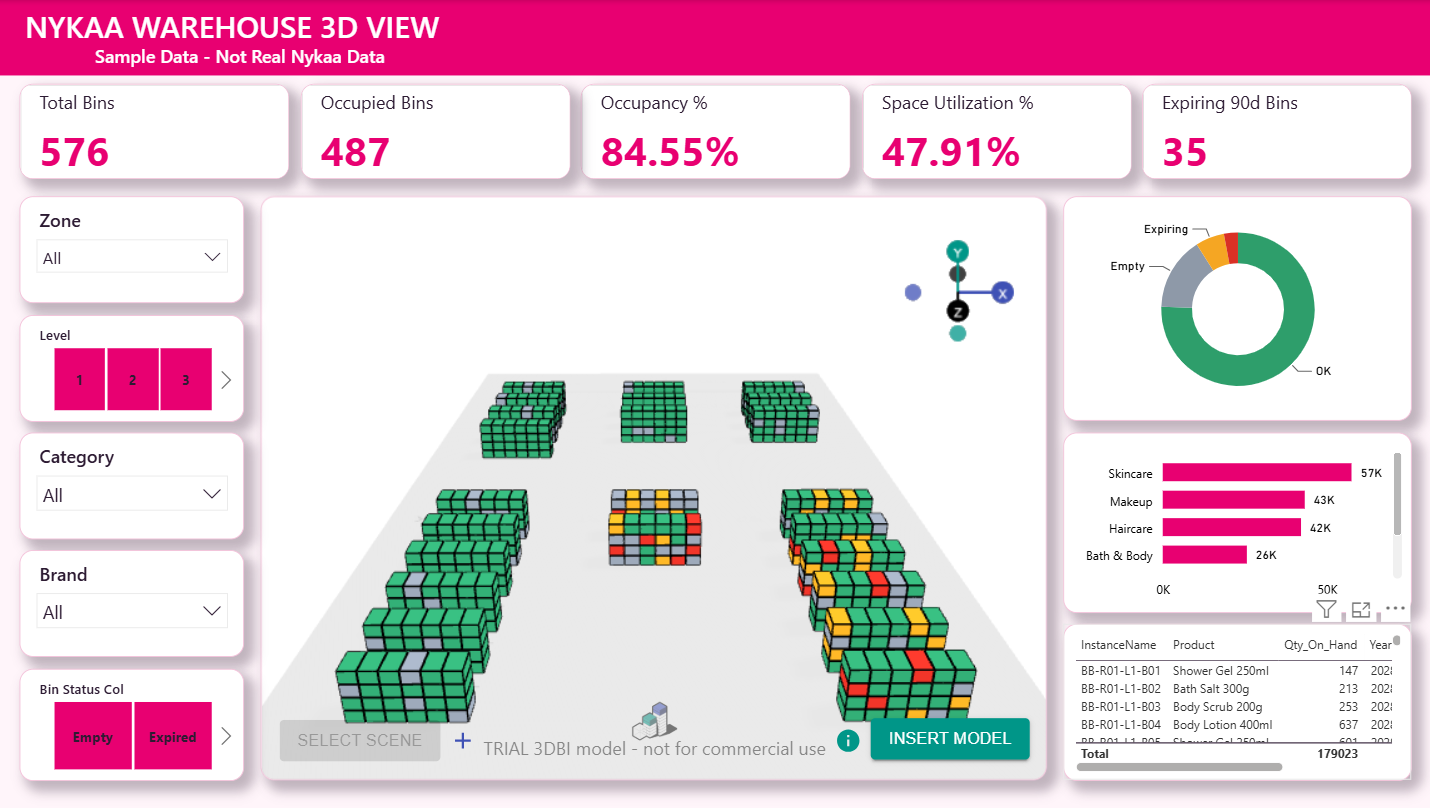

What the dashboard file says about the page in this screenshot:
{"tool":"powerbi","page":{"name":"Page 1","canvas":[1280,720],"ordinal":0},"visuals":[{"type":"shape","box":[0,0,1280,67.6],"z":0},{"type":"textbox","box":[20.5,0,416.2,50.7],"z":1000},{"type":"textbox","box":[82,33.8,392.1,33.8],"z":2000},{"type":"cardVisual","fields":{"Data":["Fact_Inventory.Total Bins"]},"box":[20,75,240,85],"z":3000},{"type":"cardVisual","fields":{"Data":["Fact_Inventory.Occupancy %"]},"box":[520,75,240,85],"z":4000},{"type":"cardVisual","fields":{"Data":["Fact_Inventory.Occupied Bins"]},"box":[270,75,240,85],"z":5000},{"type":"cardVisual","fields":{"Data":["Fact_Inventory.Space Utilization %"]},"box":[770,75,240,85],"z":6000},{"type":"cardVisual","fields":{"Data":["Fact_Inventory.Expiring 90d Bins"]},"box":[1020,75,240,85],"z":7000},{"type":"KGdev3DBI69f2181a7e5a44a9a709014959414bf0","fields":{"color_by":["Dim_Location.Bin Status Col"],"ids":["Dim_Location.InstanceName"]},"box":[235,175,700,520],"z":8000},{"type":"slicer","fields":{"Values":["Dim_Location.Zone"]},"box":[20,175,200,95],"z":9000},{"type":"slicer","fields":{"Values":["Dim_Location.Level"]},"box":[20,280,200,95],"z":10000},{"type":"slicer","fields":{"Values":["Dim_Product.Category"]},"box":[20,385,200,95],"z":11000},{"type":"slicer","fields":{"Values":["Dim_Product.Brand"]},"box":[20,490,200,95],"z":12000},{"type":"slicer","fields":{"Values":["Dim_Location.Bin Status Col"]},"box":[20,595,200,100],"z":13000},{"type":"donutChart","fields":{"Category":["Dim_Location.Bin Status Col"],"Y":["Fact_Inventory.Total Bins"]},"box":[950,175,310,200],"z":13001},{"type":"clusteredBarChart","fields":{"Category":["Dim_Location.Zone"],"Y":["Fact_Inventory.Stock Qty"]},"box":[949.5,384.9,310.1,160.5],"z":13002},{"type":"tableEx","fields":{"Values":["Dim_Location.InstanceName","Dim_Product.Product","Sum(Fact_Inventory.Qty_On_Hand)","Fact_Inventory.Expiry_Date.Variation.Date Hierarchy.Year","Fact_Inventory.Expiry_Date.Variation.Date Hierarchy.Quarter","Fact_Inventory.Expiry_Date.Variation.Date Hierarchy.Month","Fact_Inventory.Expiry_Date.Variation.Date Hierarchy.Day"]},"box":[950,555,310,140],"z":13003}]}

Visuals, with their boxes in screenshot pixels (x1, y1, x2, y2), scaled from the page's 1280x720 canvas onto the 1430x808 screenshot:
shape: l=0, t=0, r=1429, b=76
textbox: l=23, t=0, r=488, b=57
textbox: l=92, t=38, r=530, b=76
cardVisual - Fact_Inventory.Total Bins: l=22, t=84, r=290, b=180
cardVisual - Fact_Inventory.Occupancy %: l=581, t=84, r=849, b=180
cardVisual - Fact_Inventory.Occupied Bins: l=302, t=84, r=570, b=180
cardVisual - Fact_Inventory.Space Utilization %: l=860, t=84, r=1128, b=180
cardVisual - Fact_Inventory.Expiring 90d Bins: l=1140, t=84, r=1408, b=180
KGdev3DBI69f2181a7e5a44a9a709014959414bf0 - Dim_Location.Bin Status Col x Dim_Location.InstanceName: l=263, t=196, r=1045, b=780
slicer - Dim_Location.Zone: l=22, t=196, r=246, b=303
slicer - Dim_Location.Level: l=22, t=314, r=246, b=421
slicer - Dim_Product.Category: l=22, t=432, r=246, b=539
slicer - Dim_Product.Brand: l=22, t=550, r=246, b=656
slicer - Dim_Location.Bin Status Col: l=22, t=668, r=246, b=780
donutChart - Dim_Location.Bin Status Col x Fact_Inventory.Total Bins: l=1061, t=196, r=1408, b=421
clusteredBarChart - Dim_Location.Zone x Fact_Inventory.Stock Qty: l=1061, t=432, r=1407, b=612
tableEx - Dim_Location.InstanceName x Dim_Product.Product: l=1061, t=623, r=1408, b=780
